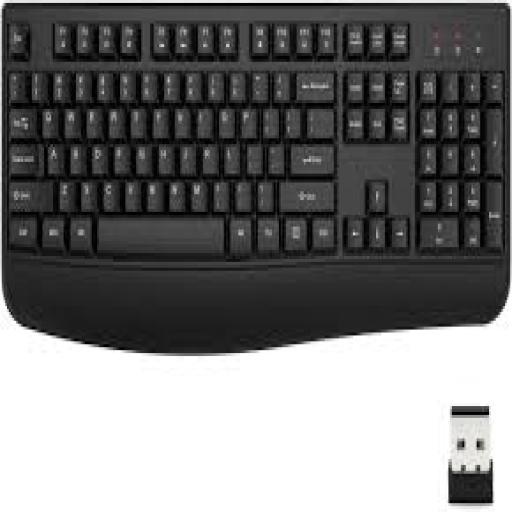KEYBOARD-2: (2, 3, 510, 350)
